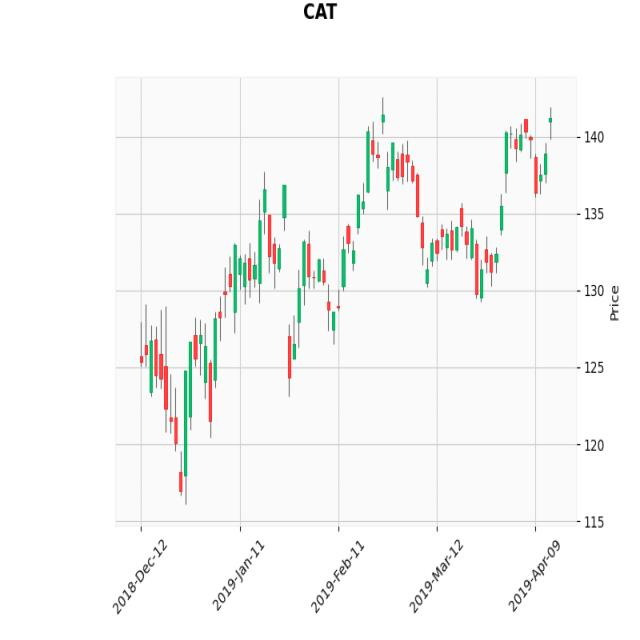Double-Bottom: (409, 130, 514, 304)
Inverse-Head-Shoulders: (140, 300, 227, 507)
